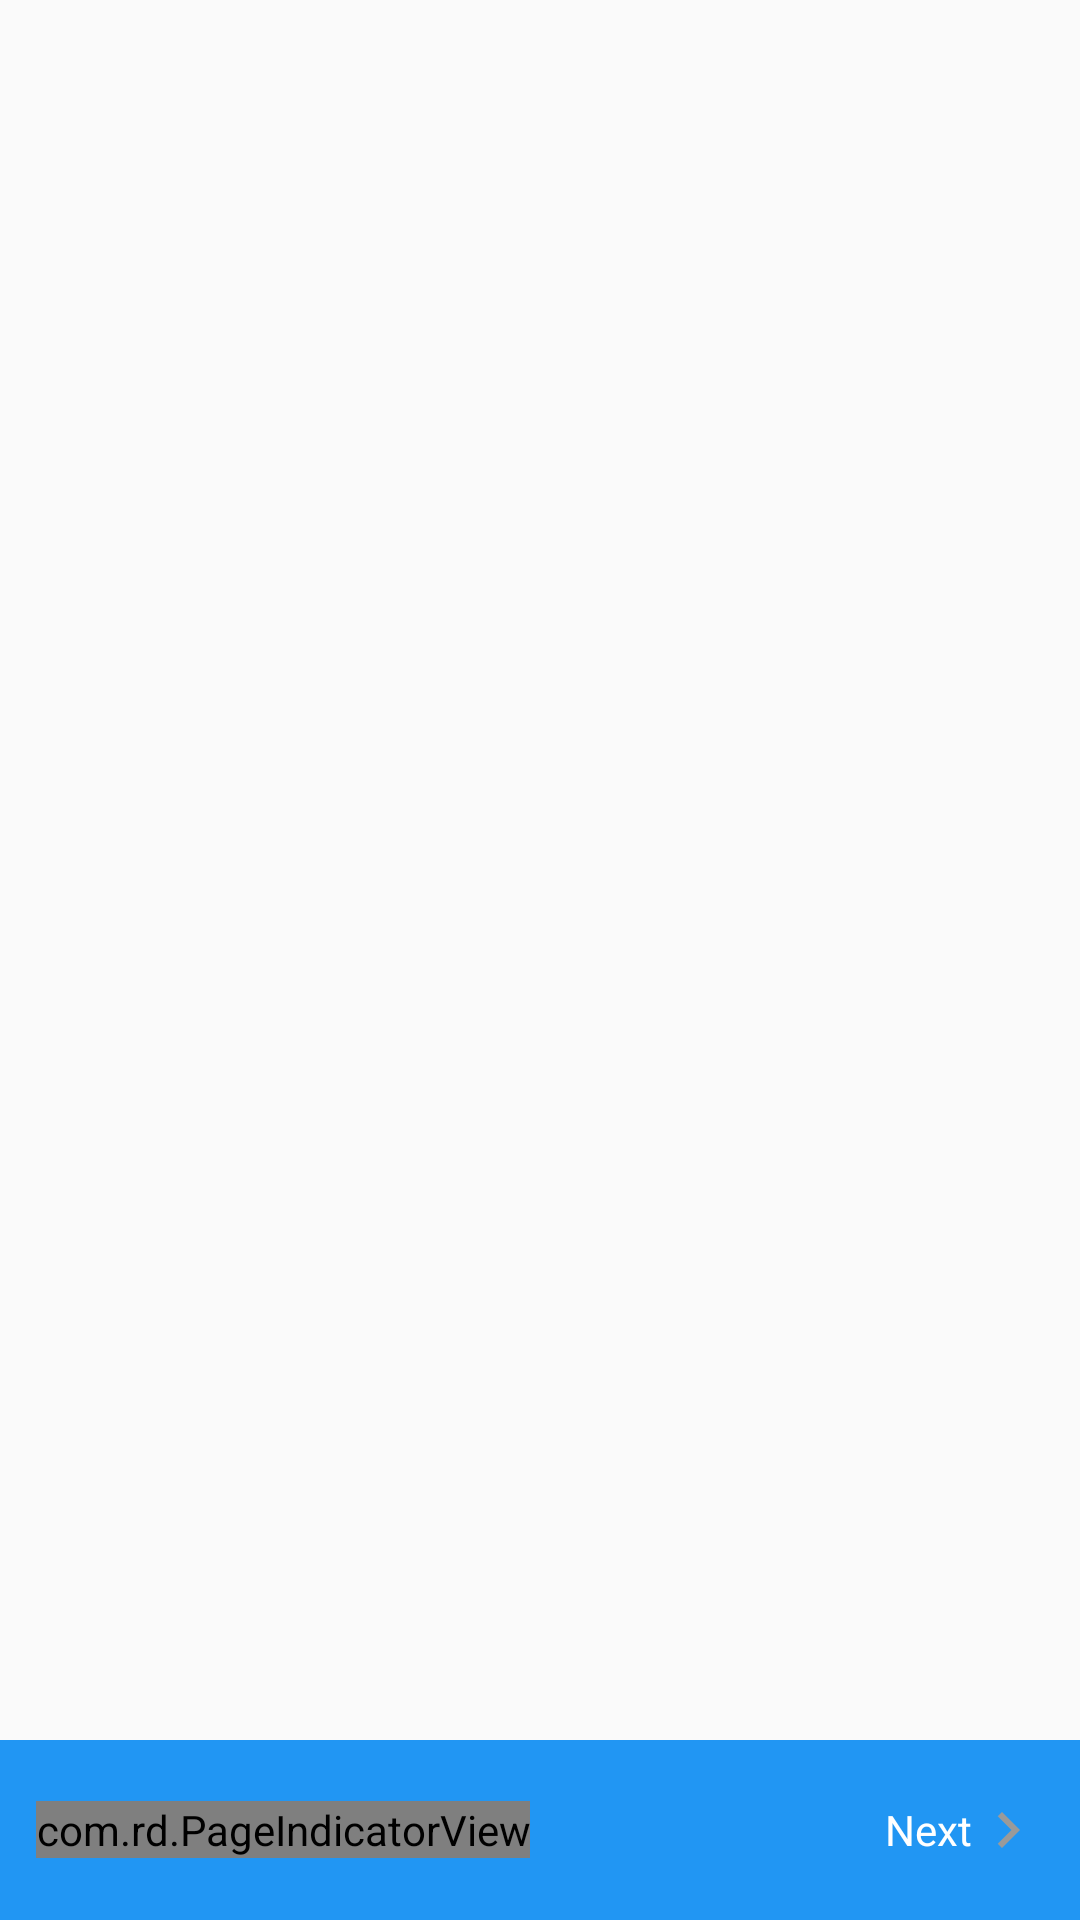

Point at icon controls on the screen. Image size 1080×1920, points as (x=x, y=y).
chevron right: (x=1009, y=1830)
